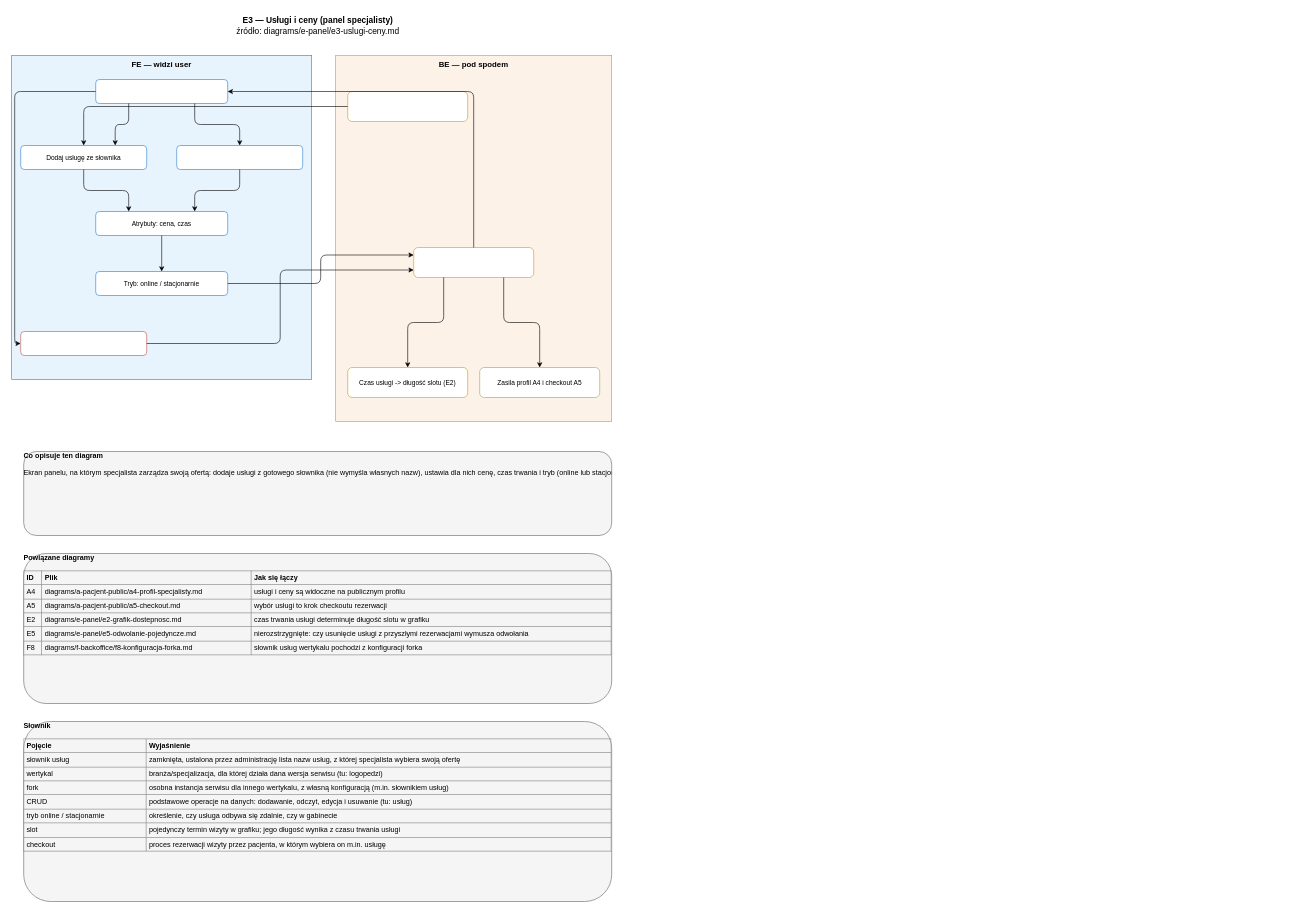
Some shapes in this 1301 by 912 pixel diagram are drawn without their labels. The shapes that lost their labels are listed below. From the top down, each one's centre as x and y in pixels, then its label:
point (161, 91): Lista usług specjalisty
point (407, 106): Słownik usług wertykalu (F8)
point (239, 157): Edytuj usługę
point (473, 262): Services API
point (83, 343): Usuń usługę
